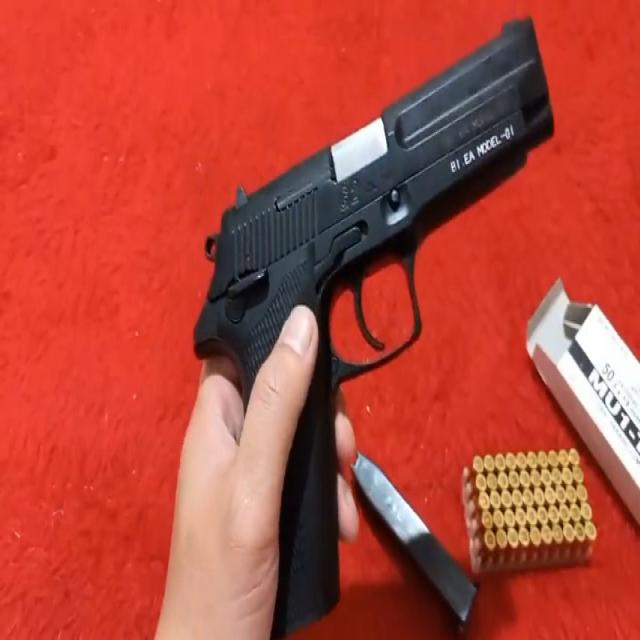handgun: (190, 0, 562, 639)
